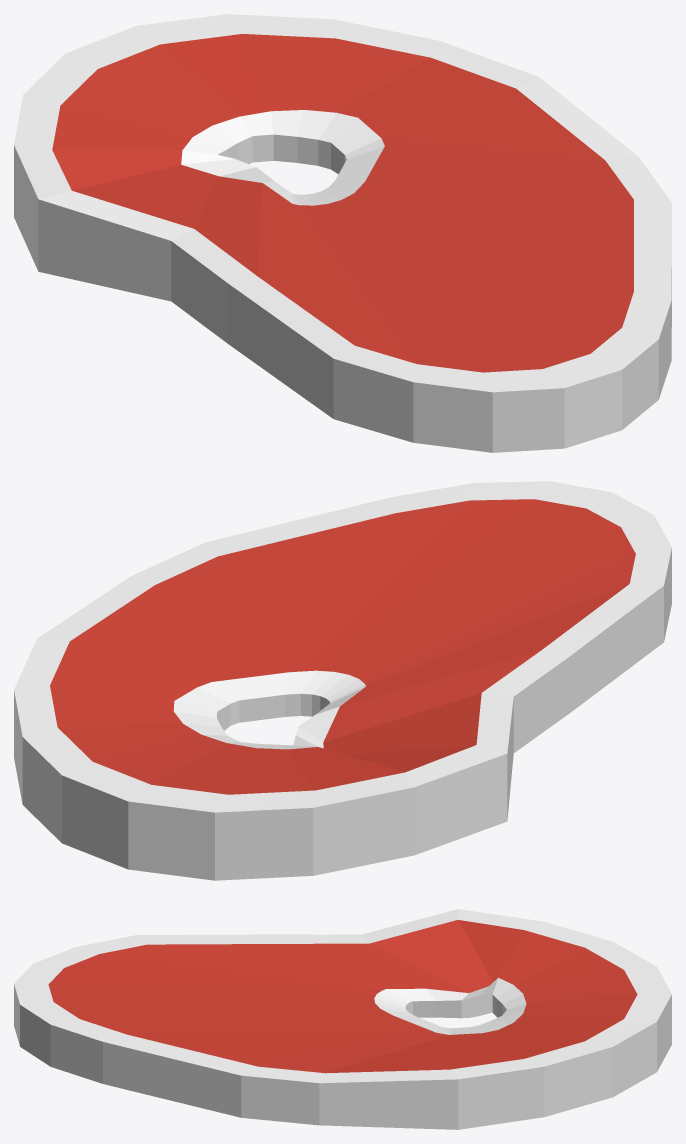
Rendered from Meat1.fbx.
3 views of the same model, one above another, from view 1: azimuth 30°, elevation 25°; view 2: azimuth 150°, elevation 25°; view 3: azimuth 270°, elevation 25° (orthographic). The views are drawn at different scales.
Parts seen in each view (by area): view 1: Cylinder; view 2: Cylinder; view 3: Cylinder.
Part boxes in pixels (x1,y1,x2,y2): Cylinder: (14, 14, 671, 452); Cylinder: (14, 481, 671, 880); Cylinder: (14, 909, 671, 1129).
Bounding box in the file's own units: 246 × 34.74 × 402.
Materials: 1 (1 with a texture image).
